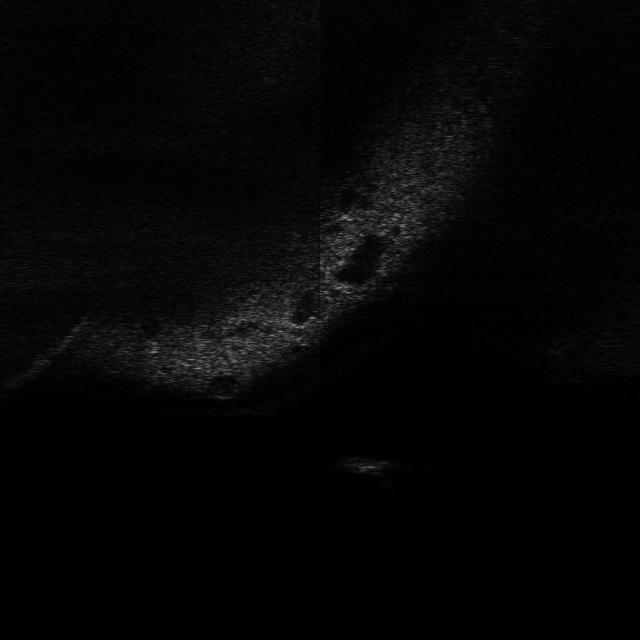cube: (337, 450, 393, 478)
